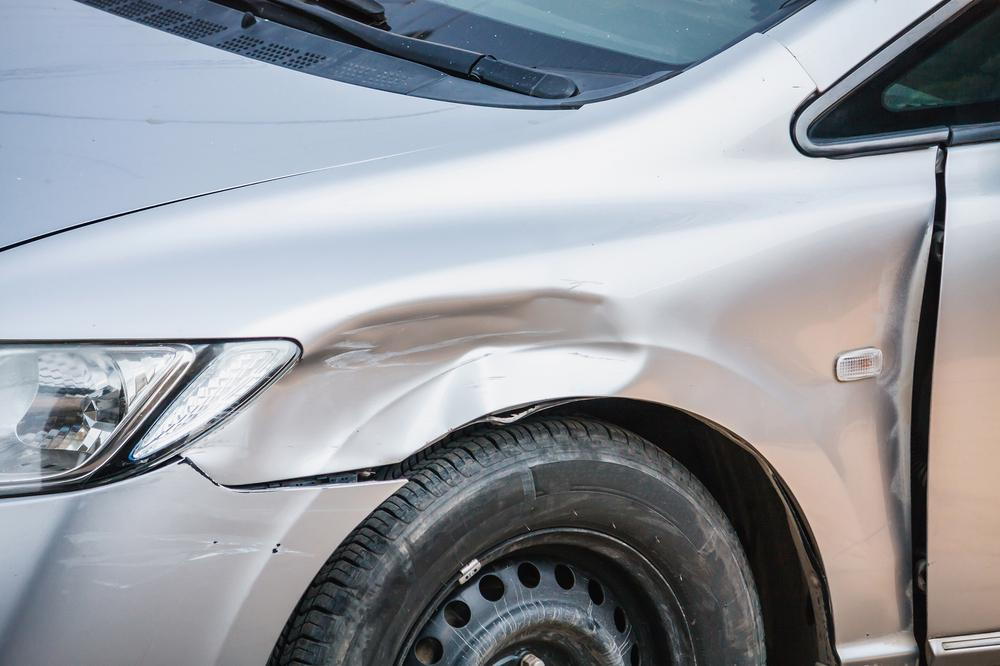dent: (238, 288, 642, 482), (715, 214, 933, 426)
scratch: (54, 524, 313, 586)
